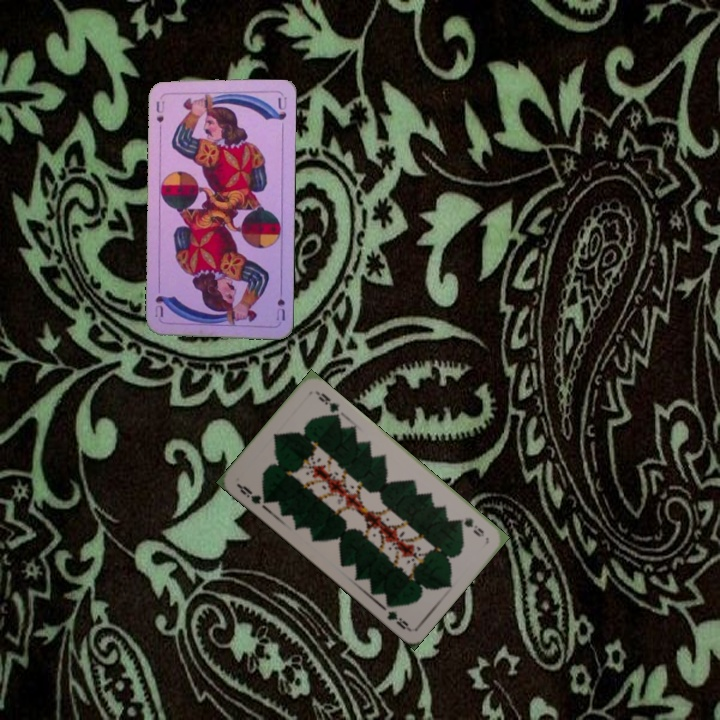G9: (233, 480, 272, 507), (454, 513, 487, 540)
SU: (272, 283, 288, 323), (152, 93, 167, 125)
